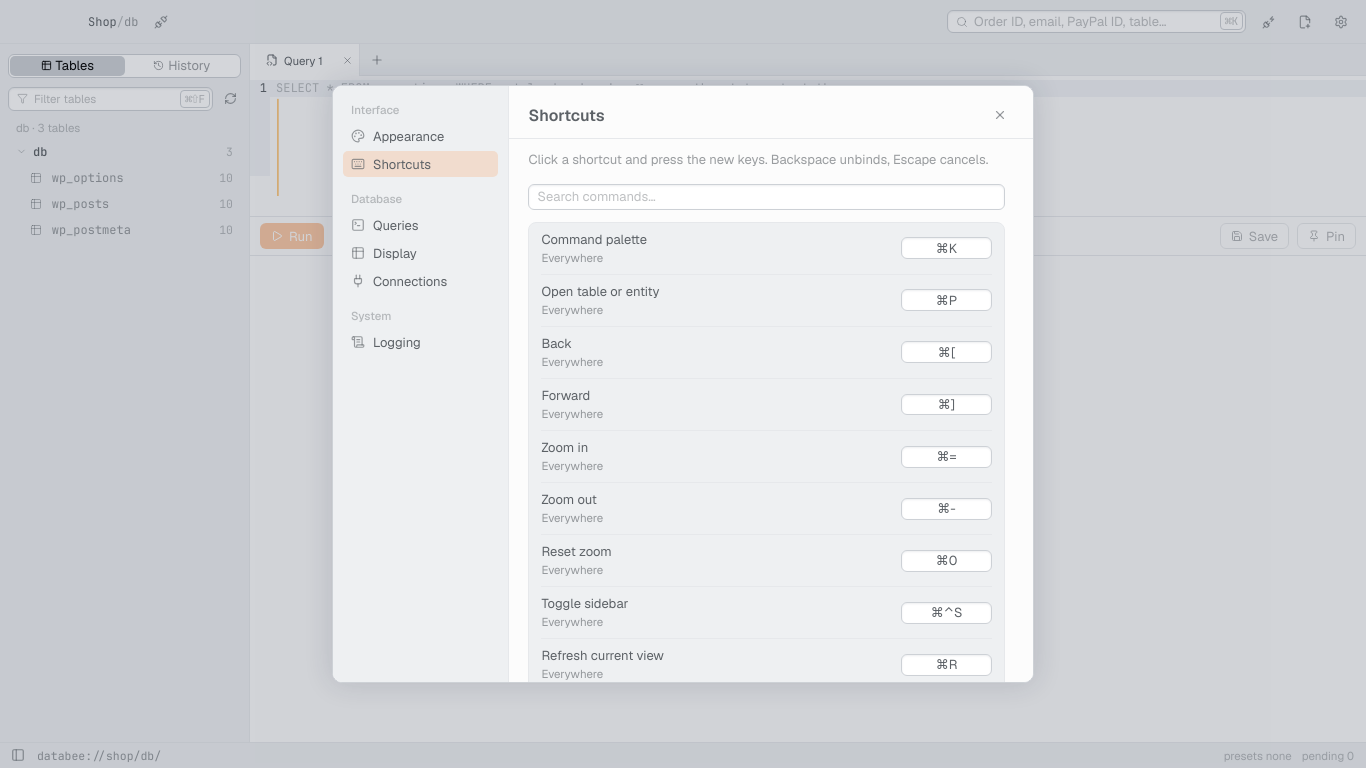
Test case: SettingsDialog › records, resets and saves shortcut overrides
Type "Command palette" into the field named "Search shortcuts" at (767, 197), box [528,184,1005,210]
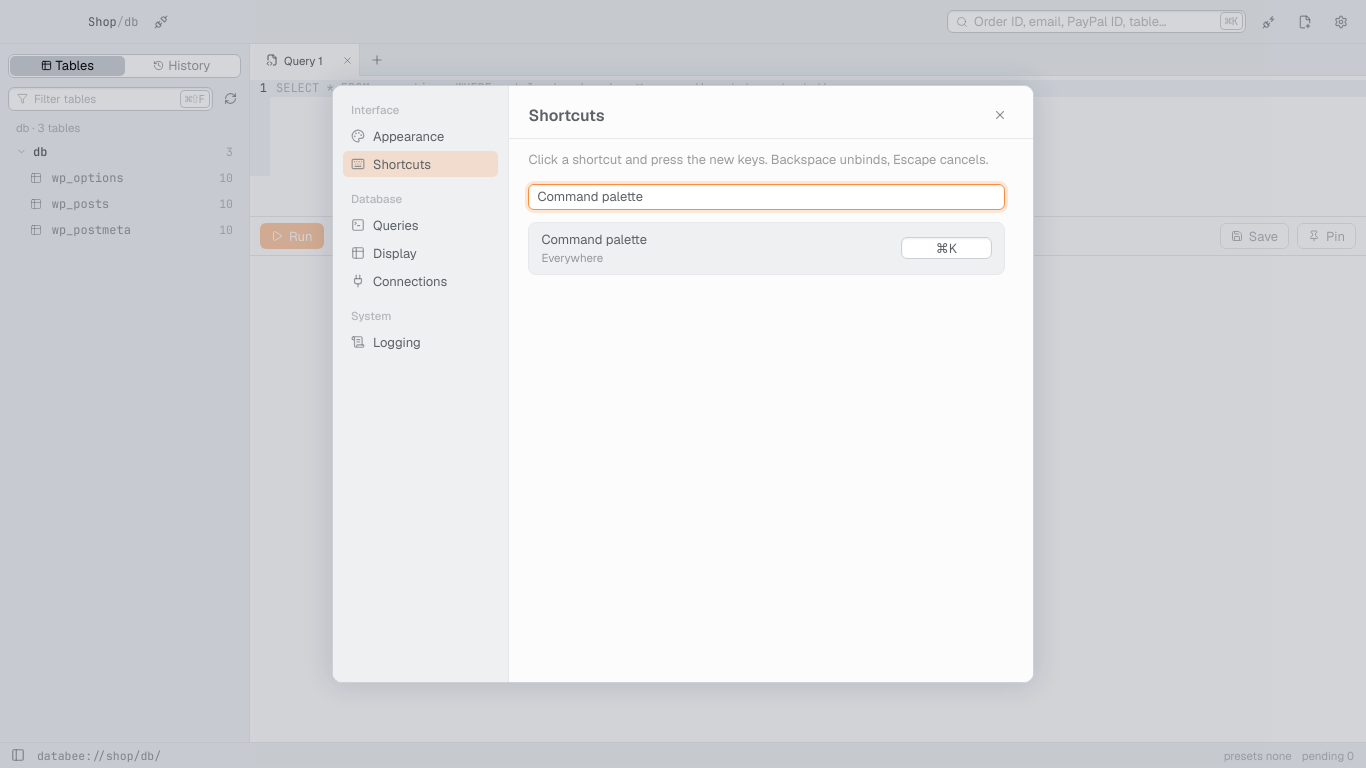
Click the button named "Record shortcut" at (946, 248), box [901,237,992,259]
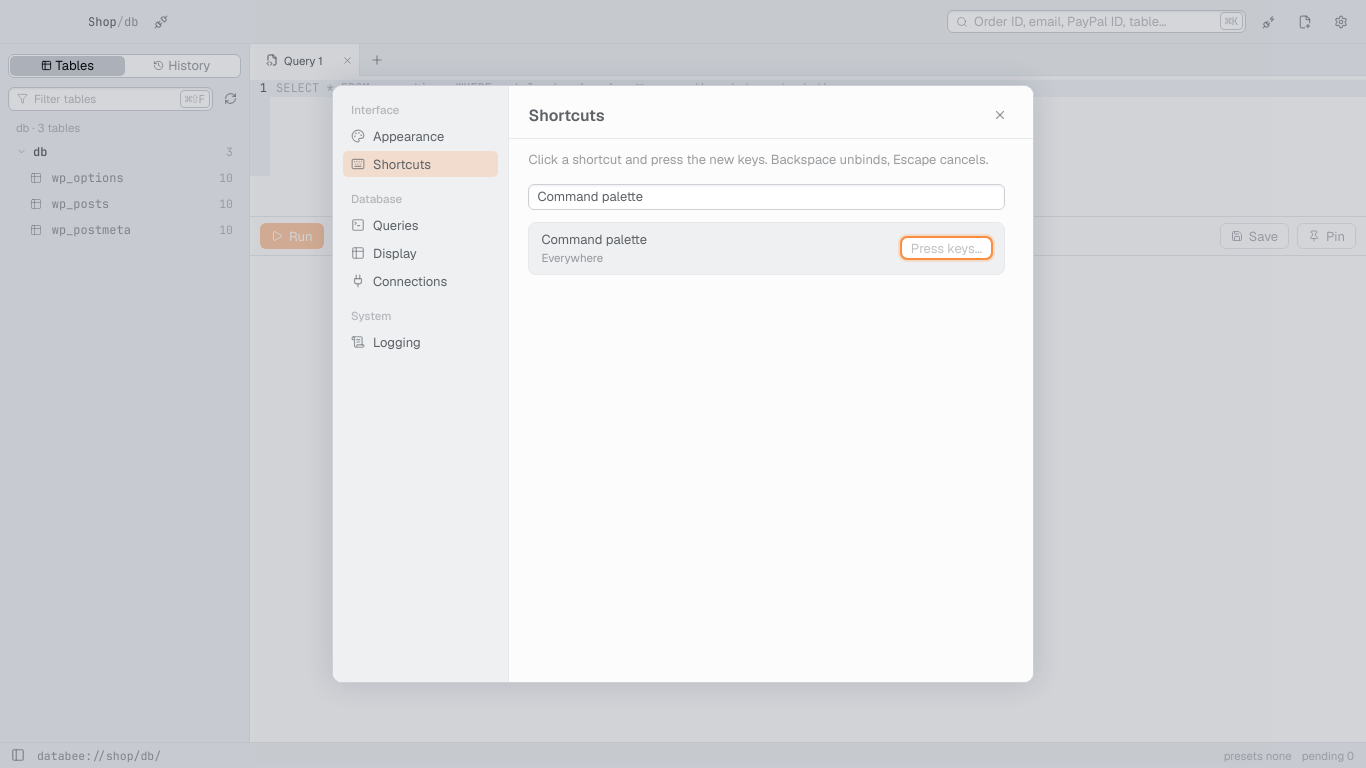
Type keys "{Meta>}{Shift>}p{/Shift}{/Meta}"
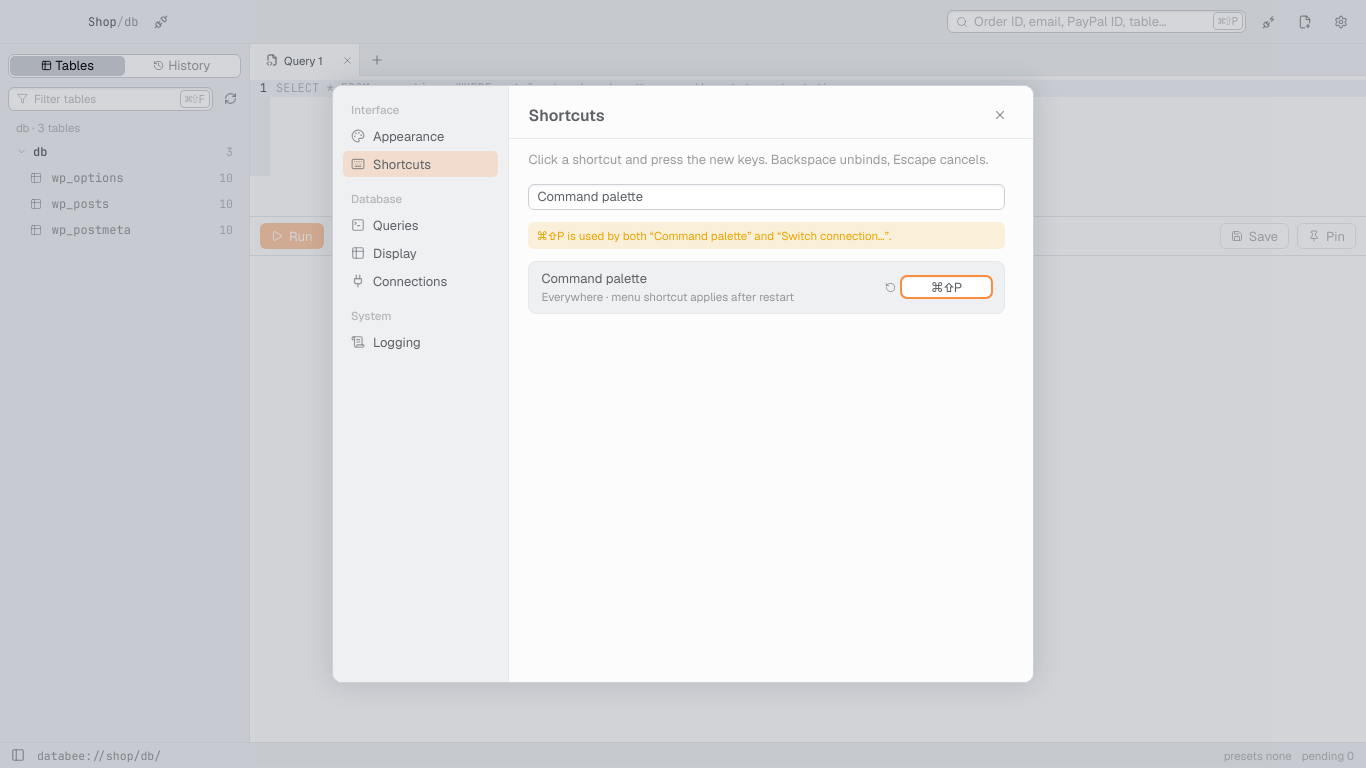
Check: the button named "Record shortcut" reads "⌘⇧P", box [901,276,992,298]
Click the button named "Reset Command palette" at (888, 287), box [879,278,897,296]
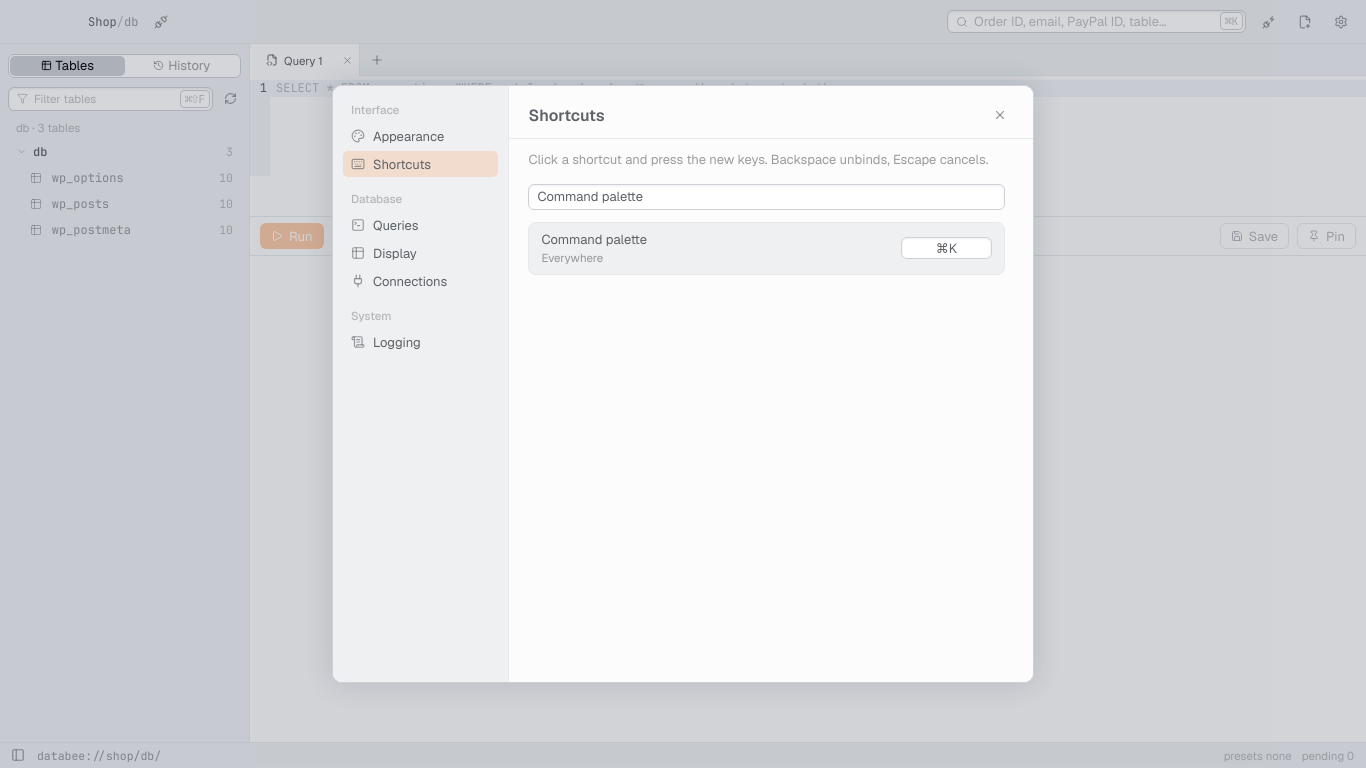
Check: the button named "Record shortcut" reads "⌘K", box [901,237,992,259]
